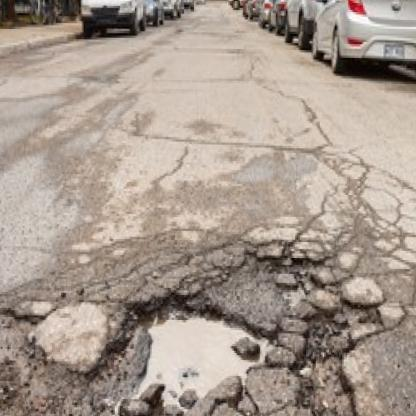pothole: (124, 280, 291, 416)
